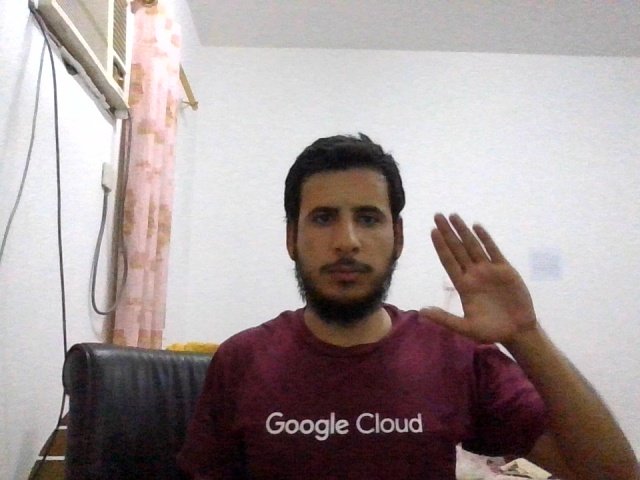Five: (419, 213, 537, 343)
